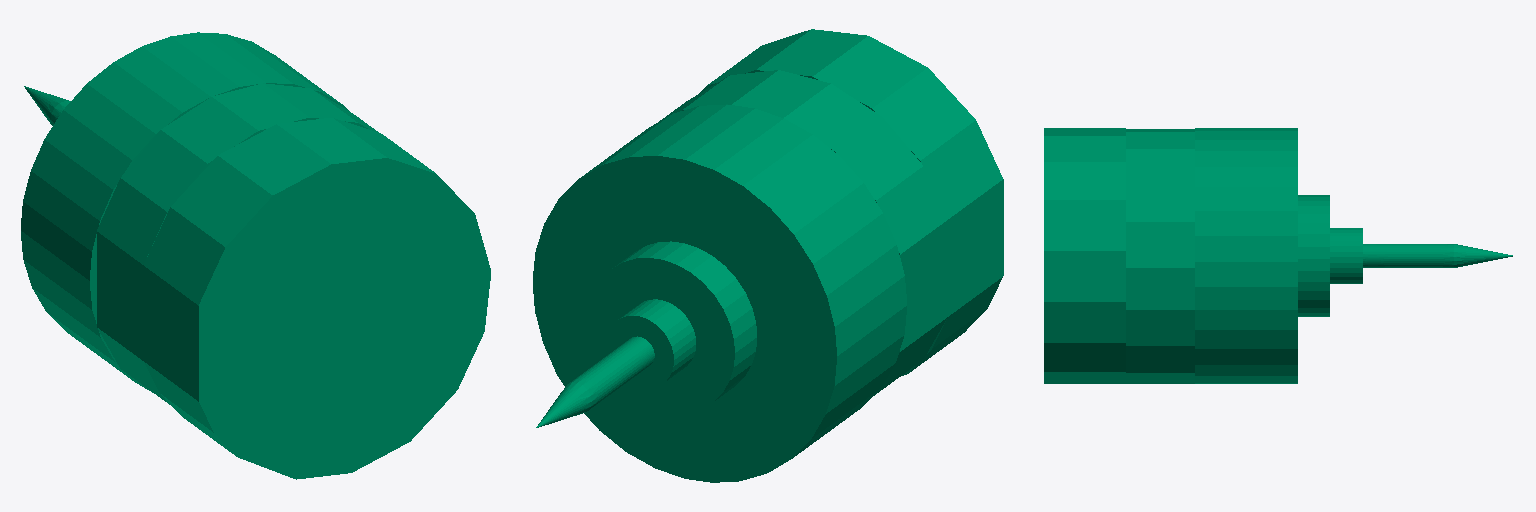
The robot description file, URDF, robot "ur5_with_measurement_tool":
<?xml version="1.0" ?>
<!-- =================================================================================== -->
<!-- |    This document was autogenerated by xacro from ur5_with_measurement_tool.xacro | -->
<!-- |    EDITING THIS FILE BY HAND IS NOT RECOMMENDED                                 | -->
<!-- =================================================================================== -->
<robot name="ur5_with_measurement_tool" xmlns:xacro="http://ros.org/wiki/xacro">
  <!-- measured from model -->
  <!--property name="shoulder_height" value="0.089159" /-->
  <!--property name="shoulder_offset" value="0.13585" /-->
  <!-- shoulder_offset - elbow_offset + wrist_1_length = 0.10915 -->
  <!--property name="upper_arm_length" value="0.42500" /-->
  <!--property name="elbow_offset" value="0.1197" /-->
  <!-- CAD measured -->
  <!--property name="forearm_length" value="0.39225" /-->
  <!--property name="wrist_1_length" value="0.093" /-->
  <!-- CAD measured -->
  <!--property name="wrist_2_length" value="0.09465" /-->
  <!-- In CAD this distance is 0.930, but in the spec it is 0.09465 -->
  <!--property name="wrist_3_length" value="0.0823" /-->
  <!-- manually measured -->
  <link name="base_link">
    <visual>
      <geometry>
        <mesh filename="package://ur_description/meshes/ur5/visual/base.dae"/>
      </geometry>
      <material name="LightGrey">
        <color rgba="0.7 0.7 0.7 1.0"/>
      </material>
    </visual>
    <collision>
      <geometry>
        <mesh filename="package://ur_description/meshes/ur5/collision/base.stl"/>
      </geometry>
    </collision>
    <inertial>
      <mass value="4.0"/>
      <origin rpy="0 0 0" xyz="0.0 0.0 0.0"/>
      <inertia ixx="0.00443333156" ixy="0.0" ixz="0.0" iyy="0.00443333156" iyz="0.0" izz="0.0072"/>
    </inertial>
  </link>
  <joint name="shoulder_pan_joint" type="revolute">
    <parent link="base_link"/>
    <child link="shoulder_link"/>
    <origin rpy="0.0 0.0 0.0" xyz="0.0 0.0 0.089159"/>
    <axis xyz="0 0 1"/>
    <limit effort="150.0" lower="-3.14159265" upper="3.14159265" velocity="3.15"/>
    <dynamics damping="0.0" friction="0.0"/>
  </joint>
  <link name="shoulder_link">
    <visual>
      <geometry>
        <mesh filename="package://ur_description/meshes/ur5/visual/shoulder.dae"/>
      </geometry>
      <material name="LightGrey">
        <color rgba="0.7 0.7 0.7 1.0"/>
      </material>
    </visual>
    <collision>
      <geometry>
        <mesh filename="package://ur_description/meshes/ur5/collision/shoulder.stl"/>
      </geometry>
    </collision>
    <inertial>
      <mass value="3.7"/>
      <origin rpy="0 0 0" xyz="0.0 0.0 0.0"/>
      <inertia ixx="0.010267495893" ixy="0.0" ixz="0.0" iyy="0.010267495893" iyz="0.0" izz="0.00666"/>
    </inertial>
  </link>
  <joint name="shoulder_lift_joint" type="revolute">
    <parent link="shoulder_link"/>
    <child link="upper_arm_link"/>
    <origin rpy="0.0 1.570796325 0.0" xyz="0.0 0.13585 0.0"/>
    <axis xyz="0 1 0"/>
    <limit effort="150.0" lower="-3.14159265" upper="3.14159265" velocity="3.15"/>
    <dynamics damping="0.0" friction="0.0"/>
  </joint>
  <link name="upper_arm_link">
    <visual>
      <geometry>
        <mesh filename="package://ur_description/meshes/ur5/visual/upperarm.dae"/>
      </geometry>
      <material name="LightGrey">
        <color rgba="0.7 0.7 0.7 1.0"/>
      </material>
    </visual>
    <collision>
      <geometry>
        <mesh filename="package://ur_description/meshes/ur5/collision/upperarm.stl"/>
      </geometry>
    </collision>
    <inertial>
      <mass value="8.393"/>
      <origin rpy="0 0 0" xyz="0.0 0.0 0.28"/>
      <inertia ixx="0.22689067591" ixy="0.0" ixz="0.0" iyy="0.22689067591" iyz="0.0" izz="0.0151074"/>
    </inertial>
  </link>
  <joint name="elbow_joint" type="revolute">
    <parent link="upper_arm_link"/>
    <child link="forearm_link"/>
    <origin rpy="0.0 0.0 0.0" xyz="0.0 -0.1197 0.425"/>
    <axis xyz="0 1 0"/>
    <limit effort="150.0" lower="-3.14159265" upper="3.14159265" velocity="3.15"/>
    <dynamics damping="0.0" friction="0.0"/>
  </joint>
  <link name="forearm_link">
    <visual>
      <geometry>
        <mesh filename="package://ur_description/meshes/ur5/visual/forearm.dae"/>
      </geometry>
      <material name="LightGrey">
        <color rgba="0.7 0.7 0.7 1.0"/>
      </material>
    </visual>
    <collision>
      <geometry>
        <mesh filename="package://ur_description/meshes/ur5/collision/forearm.stl"/>
      </geometry>
    </collision>
    <inertial>
      <mass value="2.275"/>
      <origin rpy="0 0 0" xyz="0.0 0.0 0.25"/>
      <inertia ixx="0.049443313556" ixy="0.0" ixz="0.0" iyy="0.049443313556" iyz="0.0" izz="0.004095"/>
    </inertial>
  </link>
  <joint name="wrist_1_joint" type="revolute">
    <parent link="forearm_link"/>
    <child link="wrist_1_link"/>
    <origin rpy="0.0 1.570796325 0.0" xyz="0.0 0.0 0.39225"/>
    <axis xyz="0 1 0"/>
    <limit effort="28.0" lower="-3.14159265" upper="3.14159265" velocity="3.2"/>
    <dynamics damping="0.0" friction="0.0"/>
  </joint>
  <link name="wrist_1_link">
    <visual>
      <geometry>
        <mesh filename="package://ur_description/meshes/ur5/visual/wrist1.dae"/>
      </geometry>
      <material name="LightGrey">
        <color rgba="0.7 0.7 0.7 1.0"/>
      </material>
    </visual>
    <collision>
      <geometry>
        <mesh filename="package://ur_description/meshes/ur5/collision/wrist1.stl"/>
      </geometry>
    </collision>
    <inertial>
      <mass value="1.219"/>
      <origin rpy="0 0 0" xyz="0.0 0.0 0.0"/>
      <inertia ixx="0.111172755531" ixy="0.0" ixz="0.0" iyy="0.111172755531" iyz="0.0" izz="0.21942"/>
    </inertial>
  </link>
  <joint name="wrist_2_joint" type="revolute">
    <parent link="wrist_1_link"/>
    <child link="wrist_2_link"/>
    <origin rpy="0.0 0.0 0.0" xyz="0.0 0.093 0.0"/>
    <axis xyz="0 0 1"/>
    <limit effort="28.0" lower="-3.14159265" upper="3.14159265" velocity="3.2"/>
    <dynamics damping="0.0" friction="0.0"/>
  </joint>
  <link name="wrist_2_link">
    <visual>
      <geometry>
        <mesh filename="package://ur_description/meshes/ur5/visual/wrist2.dae"/>
      </geometry>
      <material name="LightGrey">
        <color rgba="0.7 0.7 0.7 1.0"/>
      </material>
    </visual>
    <collision>
      <geometry>
        <mesh filename="package://ur_description/meshes/ur5/collision/wrist2.stl"/>
      </geometry>
    </collision>
    <inertial>
      <mass value="1.219"/>
      <origin rpy="0 0 0" xyz="0.0 0.0 0.0"/>
      <inertia ixx="0.111172755531" ixy="0.0" ixz="0.0" iyy="0.111172755531" iyz="0.0" izz="0.21942"/>
    </inertial>
  </link>
  <joint name="wrist_3_joint" type="revolute">
    <parent link="wrist_2_link"/>
    <child link="wrist_3_link"/>
    <origin rpy="0.0 0.0 0.0" xyz="0.0 0.0 0.09465"/>
    <axis xyz="0 1 0"/>
    <limit effort="28.0" lower="-3.14159265" upper="3.14159265" velocity="3.2"/>
    <dynamics damping="0.0" friction="0.0"/>
  </joint>
  <link name="wrist_3_link">
    <visual>
      <geometry>
        <mesh filename="package://ur_description/meshes/ur5/visual/wrist3.dae"/>
      </geometry>
      <material name="LightGrey">
        <color rgba="0.7 0.7 0.7 1.0"/>
      </material>
    </visual>
    <collision>
      <geometry>
        <mesh filename="package://ur_description/meshes/ur5/collision/wrist3.stl"/>
      </geometry>
    </collision>
    <inertial>
      <mass value="0.1879"/>
      <origin rpy="0 0 0" xyz="0.0 0.0 0.0"/>
      <inertia ixx="0.0171364731454" ixy="0.0" ixz="0.0" iyy="0.0171364731454" iyz="0.0" izz="0.033822"/>
    </inertial>
  </link>
  <joint name="ee_fixed_joint" type="fixed">
    <parent link="wrist_3_link"/>
    <child link="ee_link"/>
    <origin rpy="0.0 0.0 1.570796325" xyz="0.0 0.0823 0.0"/>
  </joint>
  <link name="ee_link">
    <collision>
      <geometry>
        <box size="0.01 0.01 0.01"/>
      </geometry>
      <origin rpy="0 0 0" xyz="-0.01 0 0"/>
    </collision>
  </link>
  <transmission name="shoulder_pan_trans">
    <type>transmission_interface/SimpleTransmission</type>
    <joint name="shoulder_pan_joint">
      <hardwareInterface>PositionJointInterface</hardwareInterface>
    </joint>
    <actuator name="shoulder_pan_motor">
      <mechanicalReduction>1</mechanicalReduction>
    </actuator>
  </transmission>
  <transmission name="shoulder_lift_trans">
    <type>transmission_interface/SimpleTransmission</type>
    <joint name="shoulder_lift_joint">
      <hardwareInterface>PositionJointInterface</hardwareInterface>
    </joint>
    <actuator name="shoulder_lift_motor">
      <mechanicalReduction>1</mechanicalReduction>
    </actuator>
  </transmission>
  <transmission name="elbow_trans">
    <type>transmission_interface/SimpleTransmission</type>
    <joint name="elbow_joint">
      <hardwareInterface>PositionJointInterface</hardwareInterface>
    </joint>
    <actuator name="elbow_motor">
      <mechanicalReduction>1</mechanicalReduction>
    </actuator>
  </transmission>
  <transmission name="wrist_1_trans">
    <type>transmission_interface/SimpleTransmission</type>
    <joint name="wrist_1_joint">
      <hardwareInterface>PositionJointInterface</hardwareInterface>
    </joint>
    <actuator name="wrist_1_motor">
      <mechanicalReduction>1</mechanicalReduction>
    </actuator>
  </transmission>
  <transmission name="wrist_2_trans">
    <type>transmission_interface/SimpleTransmission</type>
    <joint name="wrist_2_joint">
      <hardwareInterface>PositionJointInterface</hardwareInterface>
    </joint>
    <actuator name="wrist_2_motor">
      <mechanicalReduction>1</mechanicalReduction>
    </actuator>
  </transmission>
  <transmission name="wrist_3_trans">
    <type>transmission_interface/SimpleTransmission</type>
    <joint name="wrist_3_joint">
      <hardwareInterface>PositionJointInterface</hardwareInterface>
    </joint>
    <actuator name="wrist_3_motor">
      <mechanicalReduction>1</mechanicalReduction>
    </actuator>
  </transmission>
  <!-- nothing to do here at the moment -->
  <!-- ROS base_link to UR 'Base' Coordinates transform -->
  <link name="base"/>
  <joint name="base_link-base_fixed_joint" type="fixed">
    <!-- NOTE: this rotation is only needed as long as base_link itself is
                 not corrected wrt the real robot (ie: rotated over 180
                 degrees)
      -->
    <origin rpy="0 0 -3.14159265" xyz="0 0 0"/>
    <parent link="base_link"/>
    <child link="base"/>
  </joint>
  <!-- Frame coincident with all-zeros TCP on UR controller -->
  <link name="tool0"/>
  <joint name="wrist_3_link-tool0_fixed_joint" type="fixed">
    <origin rpy="-1.570796325 0 0" xyz="0 0.0823 0"/>
    <parent link="wrist_3_link"/>
    <child link="tool0"/>
  </joint>
  <joint name="measurement_tool_joint" type="fixed">
    <parent link="tool0"/>
    <child link="measurement_tool"/>
    <origin rpy="0 0 0" xyz="0 0 0"/>
  </joint>
  <link name="measurement_tool">
    <visual>
      <geometry>
        <mesh filename="package://ur5_with_measurement_tool/meshes/visual/measurement_tool.stl"/>
      </geometry>
    </visual>
    <collision>
      <geometry>
        <mesh filename="package://ur5_with_measurement_tool/meshes/collision/measurement_tool.stl"/>
      </geometry>
    </collision>
  </link>
  <!-- TCP frame -->
  <link name="tcp"/>
  <joint name="tcp_joint" type="fixed">
    <origin rpy="0 0 0" xyz="0 0 0.116"/>
    <parent link="measurement_tool"/>
    <child link="tcp"/>
  </joint>
  <!-- define the ur5's position and orientation in the world coordinate system -->
  <link name="world"/>
  <joint name="world_joint" type="fixed">
    <parent link="world"/>
    <child link="base_link"/>
    <origin rpy="0.0 0.0 0.0" xyz="0.0 0.0 0.0"/>
  </joint>
</robot>

--- Facts derived from the render (not from the file) ---
The picture shows the robot from 3 angles, left to right: view 1: azimuth 30°, elevation 25°; view 2: azimuth 150°, elevation 25°; view 3: azimuth 270°, elevation 25°; orthographic projection.
Model ur5_with_measurement_tool with 13 links and 12 joints (6 revolute, 6 fixed), rooted at world, posed every joint at zero.
Visible links, largest first — view 1: measurement_tool; view 2: measurement_tool; view 3: measurement_tool.
Boxes of the visible links, x1,y1,x2,y2 form: measurement_tool: (21, 32, 490, 479); measurement_tool: (533, 29, 1003, 482); measurement_tool: (1044, 128, 1512, 383).
Size in the robot's own frame: 0.063 by 0.1156 by 0.063 metres.
1 mesh visuals loaded from 8 distinct referenced files (1 binary STL); not drawn: 7 (reference not matched to a file when rendering).